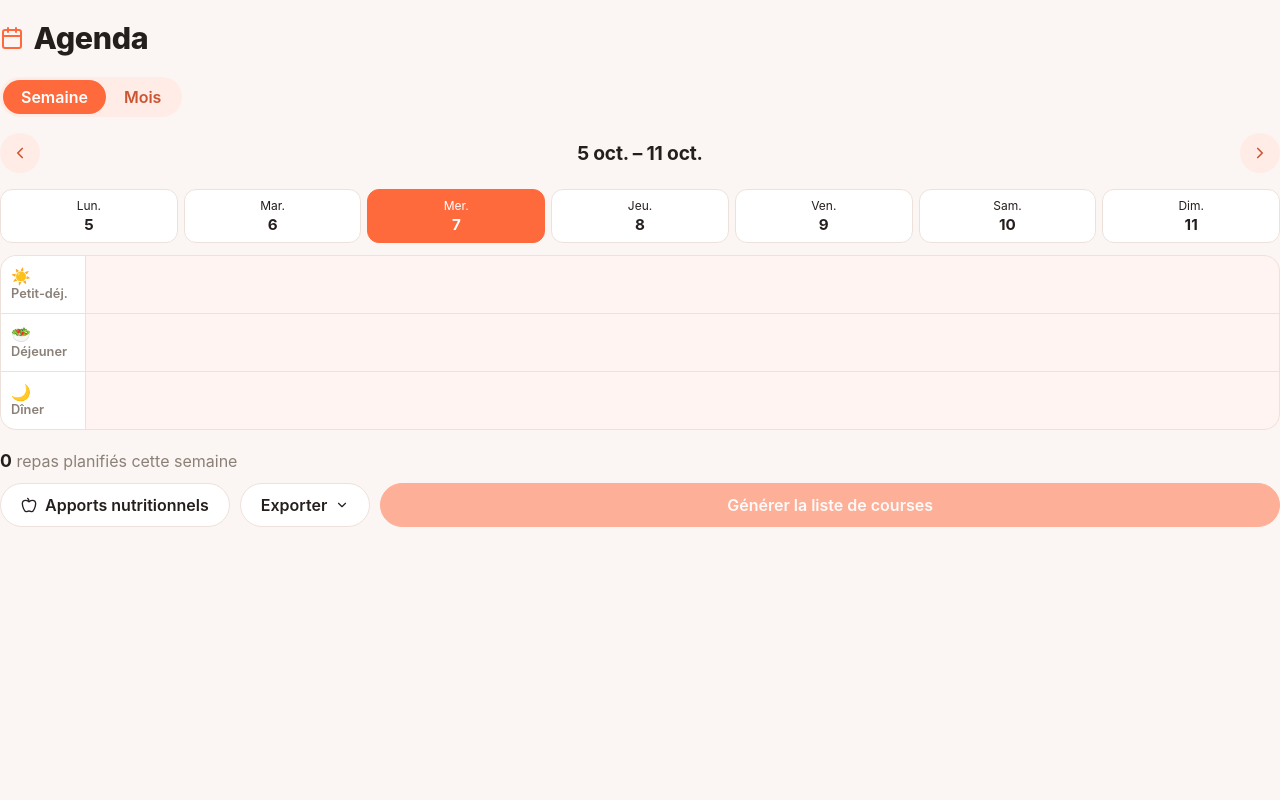
it: PlanningView nutrition modal › explains why there are no alerts when too few days are planned
What coordinates should you click on to do the following:
click the button with class "nutrition-btn"
I would click on:
 (115, 505)
Its box is left=0, top=483, right=230, bottom=527.
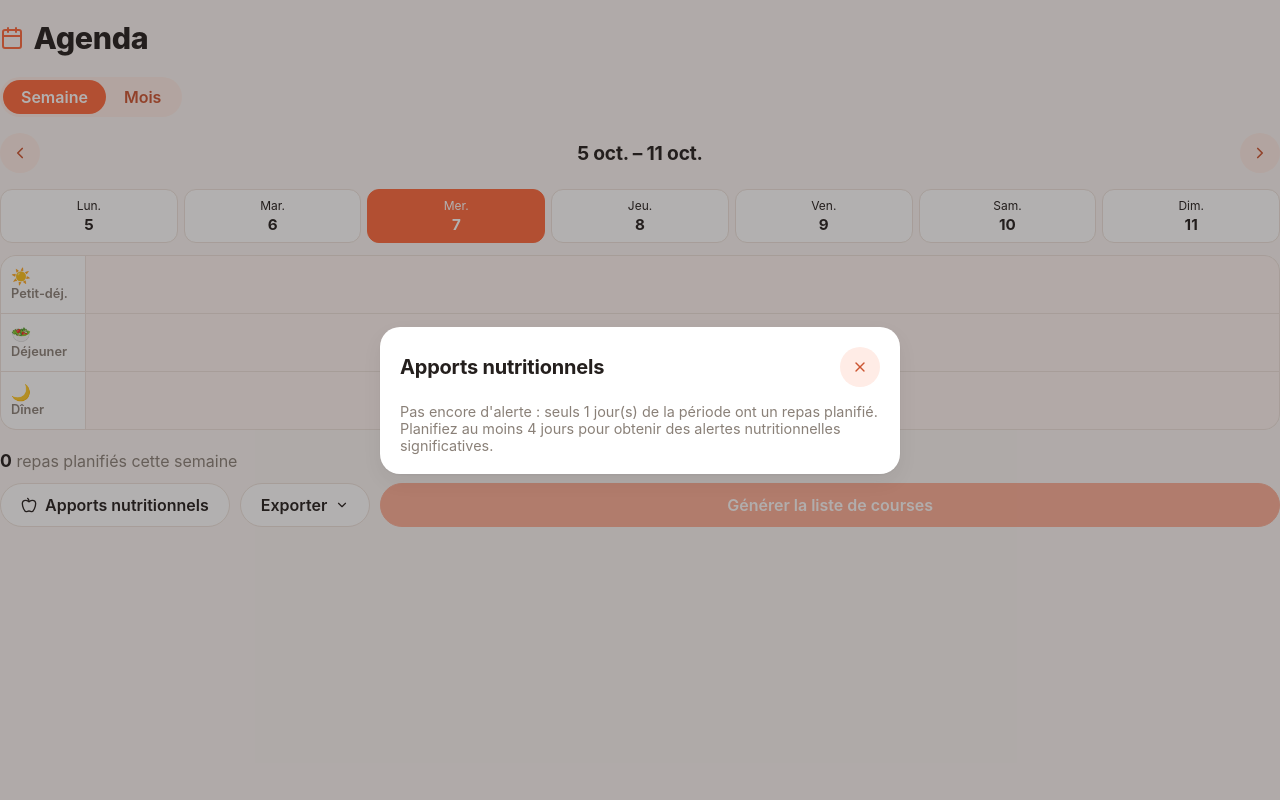
Check: the text with test id "alerts-skipped" is shown, box left=400, top=402, right=880, bottom=454
Check: the text with test id "alerts-skipped" shows "1", box left=400, top=402, right=878, bottom=454
Check: the text with test id "alerts-skipped" shows "4", box left=400, top=402, right=878, bottom=454
